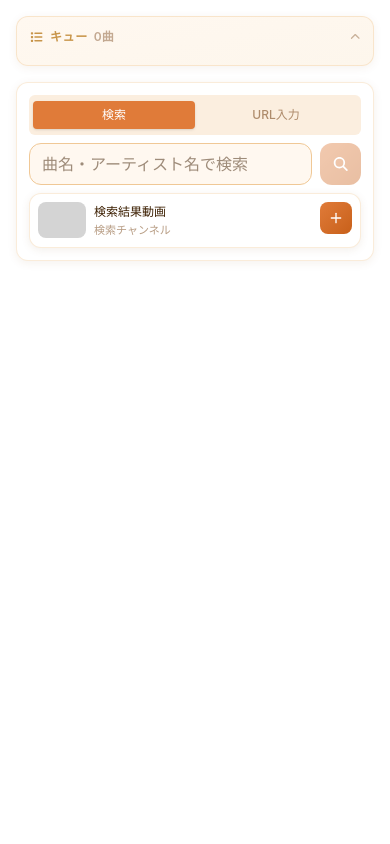
Scenario: MusicPanel › 検索タブ（デフォルト） › 検索結果のモバイル用＋ボタンを押すと動画情報付きダイアログを表示する
Click the button named "検索結果動画の追加方法を表示": (336, 218) [320,202,352,234]
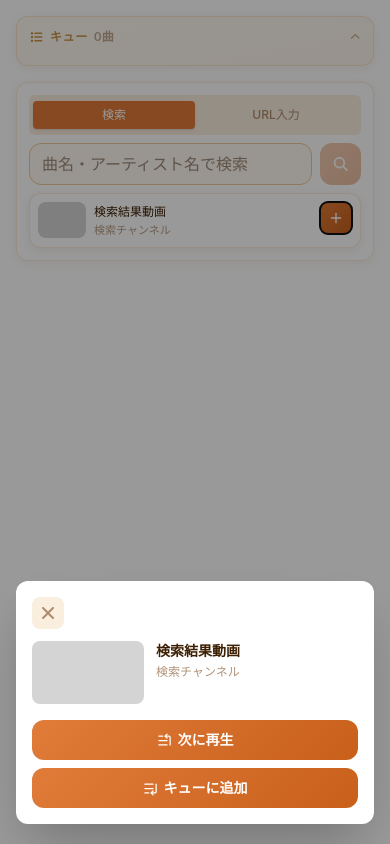
Check: the dialog shows "検索結果動画", box [156,642,240,659]
Check: the dialog shows "検索チャンネル", box [156,664,240,679]
Check: the dialog shows "次に再生", box [32,720,358,760]
